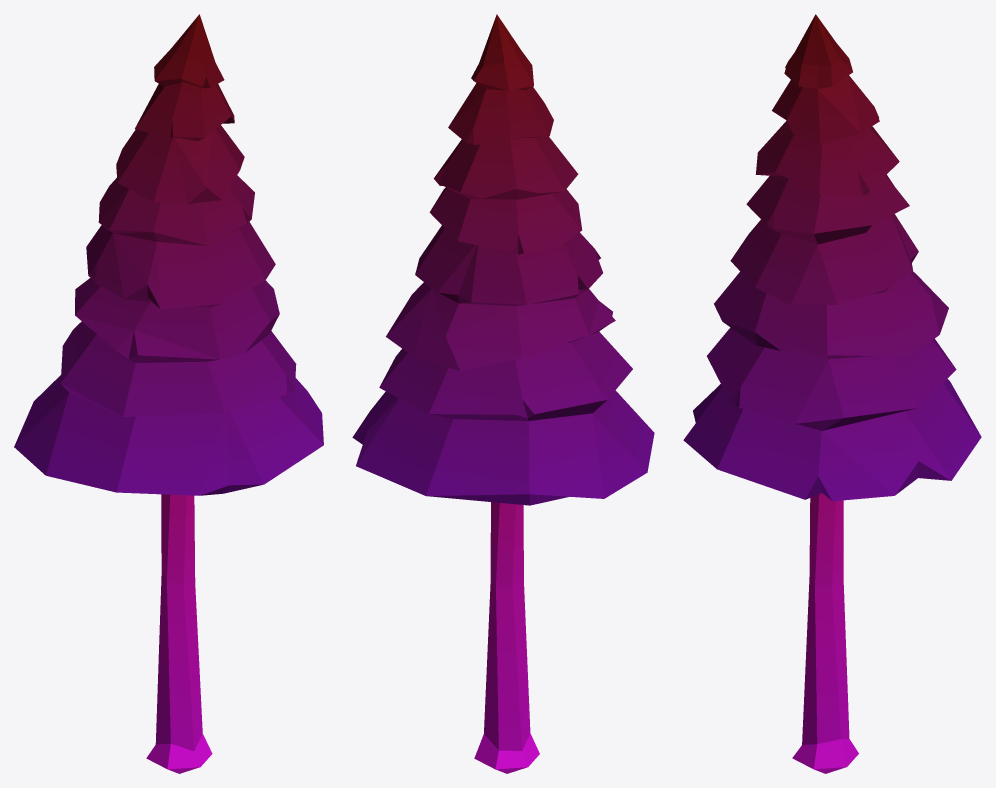
The model's file is synty-tree-polypine-01.gltf.
The picture shows the model from 3 angles, left to right: view 1: azimuth 30°, elevation 25°; view 2: azimuth 150°, elevation 25°; view 3: azimuth 270°, elevation 25°; orthographic projection.
Parts seen in each view (by area): view 1: SM_Tree_PolyPine_01; view 2: SM_Tree_PolyPine_01; view 3: SM_Tree_PolyPine_01.
Part boxes in pixels (left/top/right/bottom): SM_Tree_PolyPine_01: left=14, top=14, right=323, bottom=773; SM_Tree_PolyPine_01: left=352, top=14, right=654, bottom=773; SM_Tree_PolyPine_01: left=683, top=14, right=981, bottom=773.
Size of the model in its own units: 2.51 by 6.69 by 2.36.
